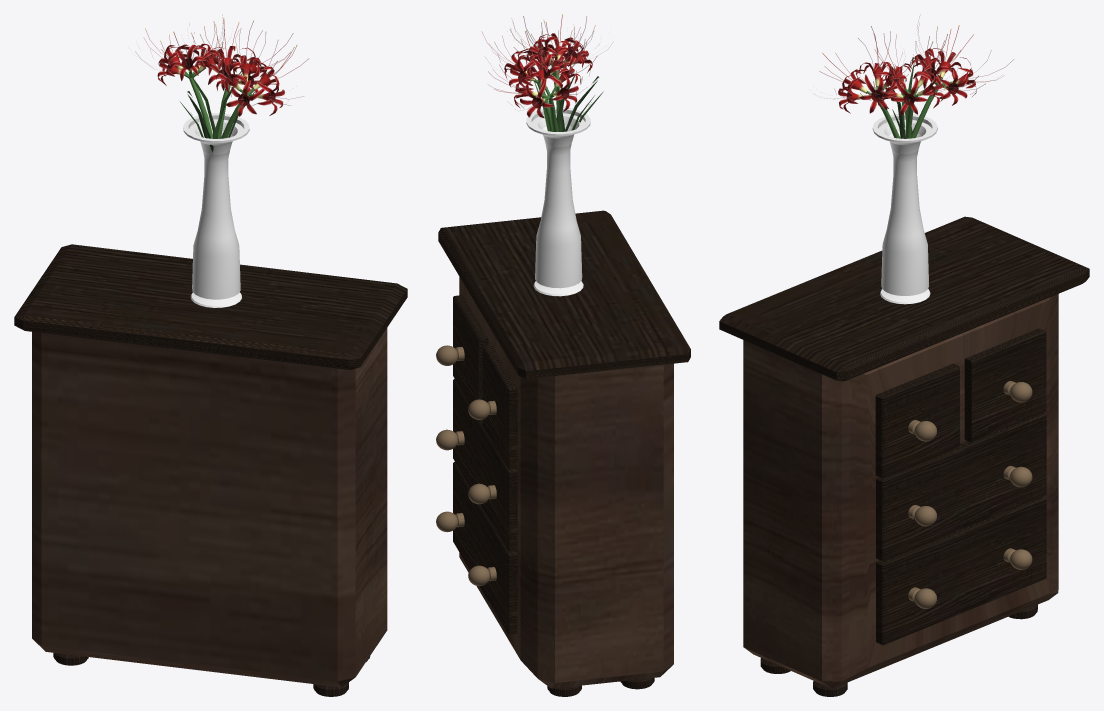
Rendered from bedside_flowers.glb.
3 views of the same model, side by side, from view 1: azimuth 30°, elevation 25°; view 2: azimuth 150°, elevation 25°; view 3: azimuth 270°, elevation 25° (orthographic). The views are drawn at different scales.
Visible parts, largest first — view 1: bedside_shelf, vase:pCylinder1, Uchujin_Main5, Uchujin_Main4, Uchujin_Main2; view 2: bedside_shelf, vase:pCylinder1, Uchujin_Main4, Uchujin_Main2, Uchujin_Main5; view 3: bedside_shelf, vase:pCylinder1, Uchujin_Main5, Uchujin_Main4, Uchujin_Main2.
Part boxes in pixels (<box>): bedside_shelf: <box>14,244,407,696</box>; vase:pCylinder1: <box>183,113,249,307</box>; Uchujin_Main5: <box>179,20,309,138</box>; Uchujin_Main4: <box>135,14,254,138</box>; Uchujin_Main2: <box>187,18,293,152</box>; bedside_shelf: <box>436,210,690,696</box>; vase:pCylinder1: <box>526,107,590,296</box>; Uchujin_Main4: <box>487,31,597,131</box>; Uchujin_Main2: <box>481,22,603,131</box>; Uchujin_Main5: <box>510,14,613,131</box>; bedside_shelf: <box>719,216,1089,696</box>; vase:pCylinder1: <box>872,113,937,304</box>; Uchujin_Main5: <box>819,26,914,138</box>; Uchujin_Main4: <box>890,14,1013,138</box>; Uchujin_Main2: <box>857,33,960,138</box>.
Bounding box in the file's own units: 0.6321 × 1.17 × 0.6392.
Materials: 5 (3 with a texture image).
